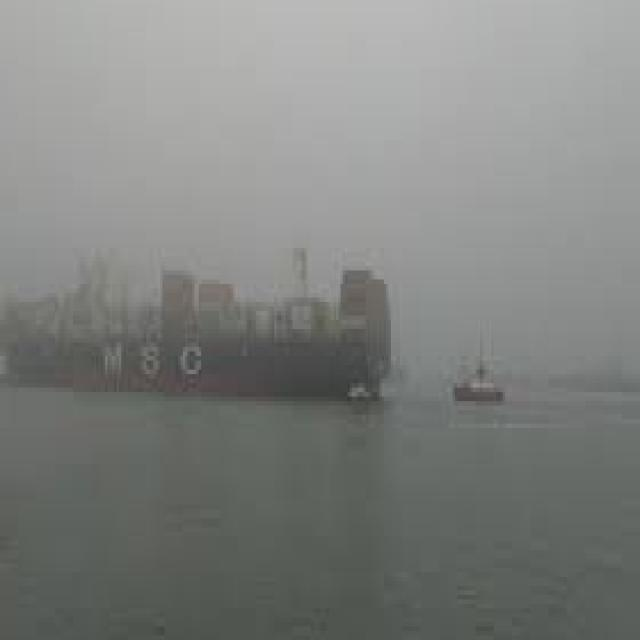cargoship: (0, 234, 391, 406)
houseboat: (454, 339, 505, 403)
